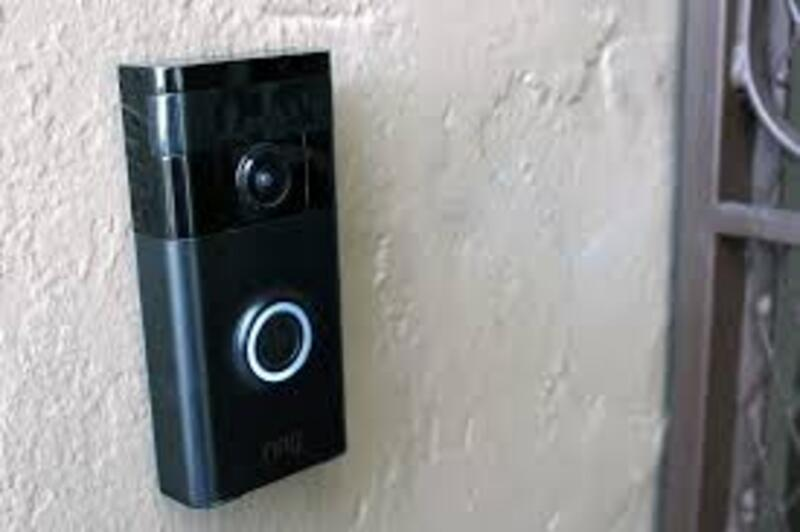doorbell: (120, 62, 357, 485)
